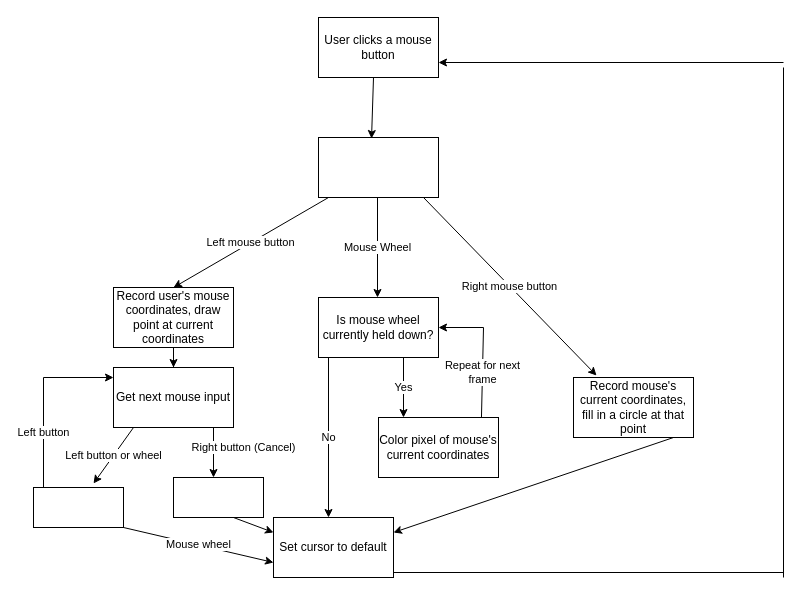
Some shapes in this 809 by 596 pixel diagram are drawn without their labels. Here are the shapes that lost their labels. From the top down, the centre of each, then its label:
At point 378,167: "Change cursor to crosshair".
At point 78,507: "Add current mouse coords as a point".
At point 218,497: "Clear all recorded points".
